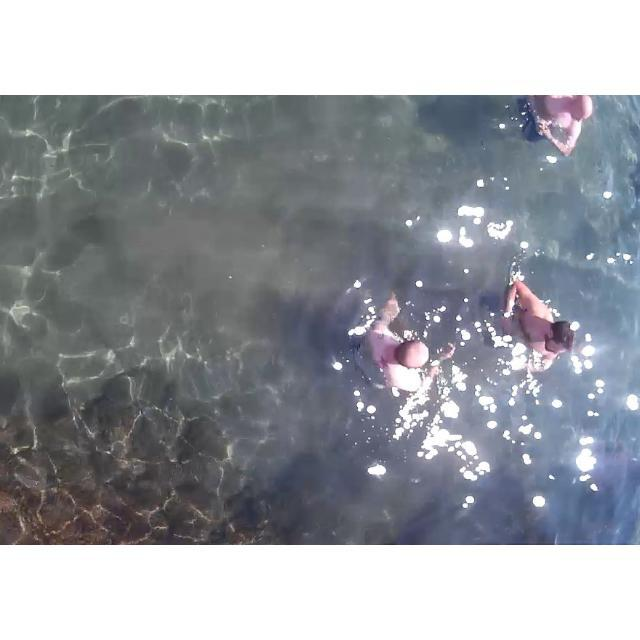human: (339, 272, 453, 408), (498, 257, 579, 379), (504, 95, 597, 164)
